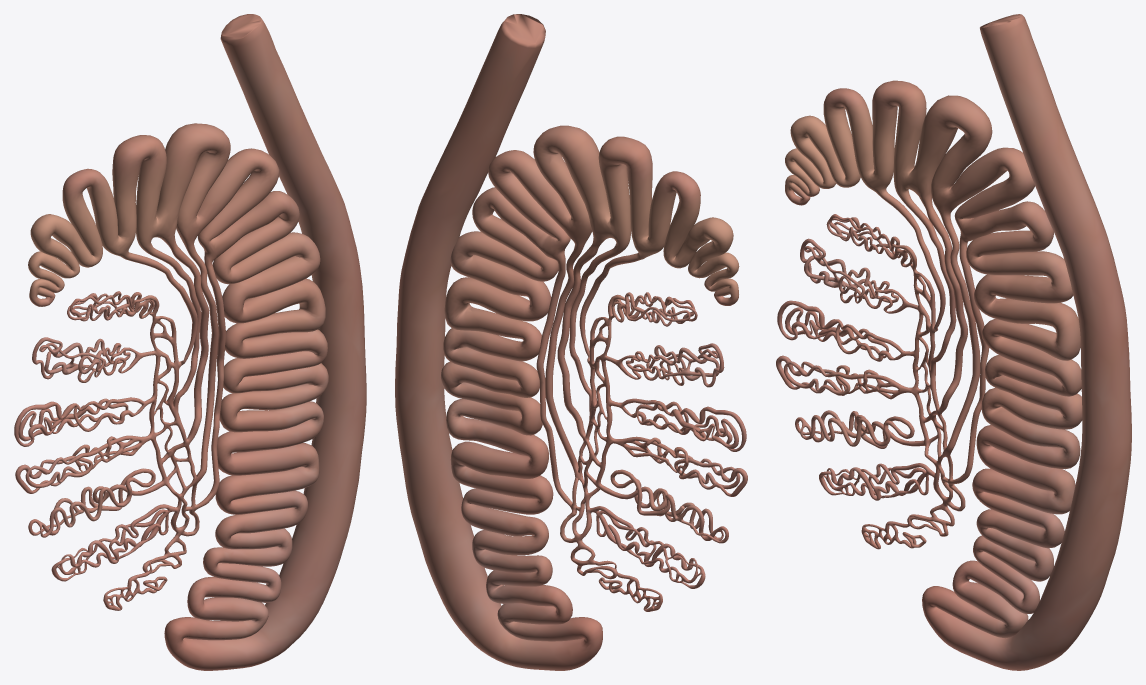
The picture shows the model from 3 angles, left to right: view 1: azimuth 30°, elevation 25°; view 2: azimuth 150°, elevation 25°; view 3: azimuth 330°, elevation 25°; orthographic projection.
Visible parts, largest first — view 1: LOD 2_6378092431652634060_a1e5460f9667e624384844bb77a670e0; view 2: LOD 2_6378092431652634060_a1e5460f9667e624384844bb77a670e0; view 3: LOD 2_6378092431652634060_a1e5460f9667e624384844bb77a670e0.
Part boxes in pixels (bbox=[...]): LOD 2_6378092431652634060_a1e5460f9667e624384844bb77a670e0: bbox=[14, 14, 366, 670]; LOD 2_6378092431652634060_a1e5460f9667e624384844bb77a670e0: bbox=[395, 14, 747, 670]; LOD 2_6378092431652634060_a1e5460f9667e624384844bb77a670e0: bbox=[776, 14, 1131, 670].
Bounding box in the file's own units: 6.96 × 12.33 × 0.9784.
